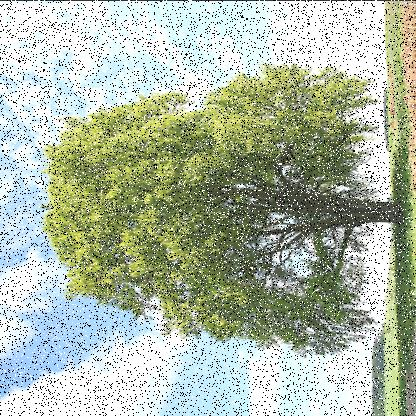Tree: (37, 56, 393, 355)
